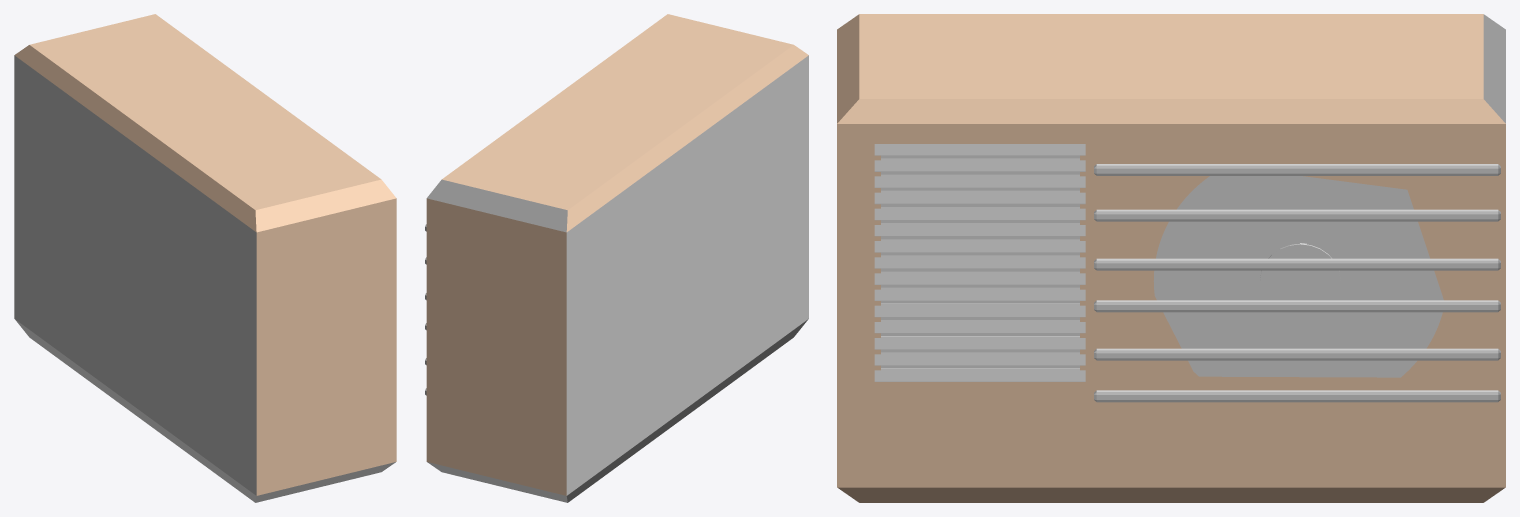
The model's file is Vent.fbx.
The picture shows the model from 3 angles, left to right: view 1: azimuth 30°, elevation 25°; view 2: azimuth 150°, elevation 25°; view 3: azimuth 270°, elevation 25°; orthographic projection. The views are drawn at different scales.
Visible parts, largest first — view 1: Vent1; view 2: Vent1; view 3: Vent1.
Part boxes in pixels (x1,y1,x2,y2): Vent1: [14, 14, 396, 502]; Vent1: [425, 14, 808, 502]; Vent1: [837, 14, 1505, 502].
Bounding box in the file's own units: 1.03 × 2 × 3.
